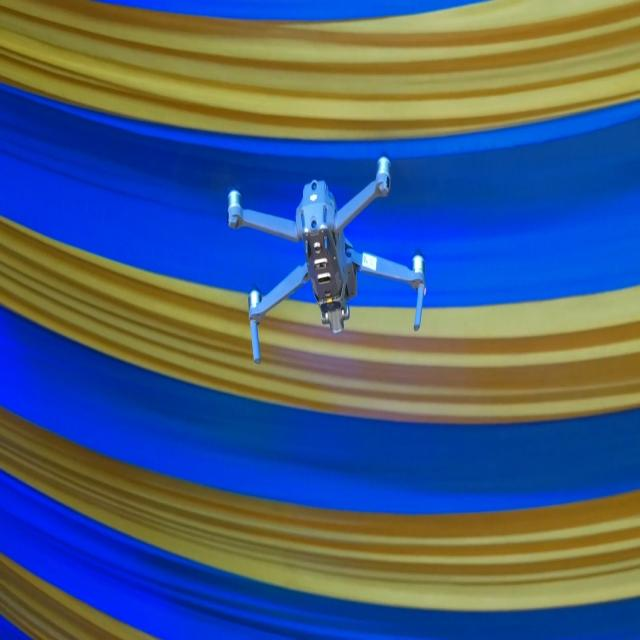Drone: (227, 156, 423, 363)
